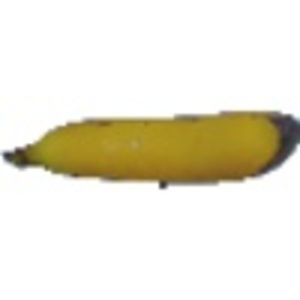banana: (2, 103, 295, 190)
